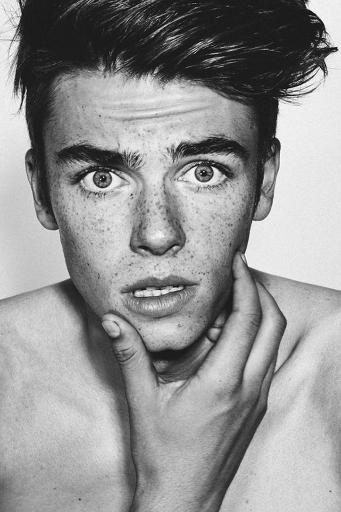left_eye: (179, 161, 233, 195)
left_lip_corner: (186, 276, 205, 300)
right_eye: (76, 166, 131, 198)
right_lip_corner: (123, 283, 138, 304)
